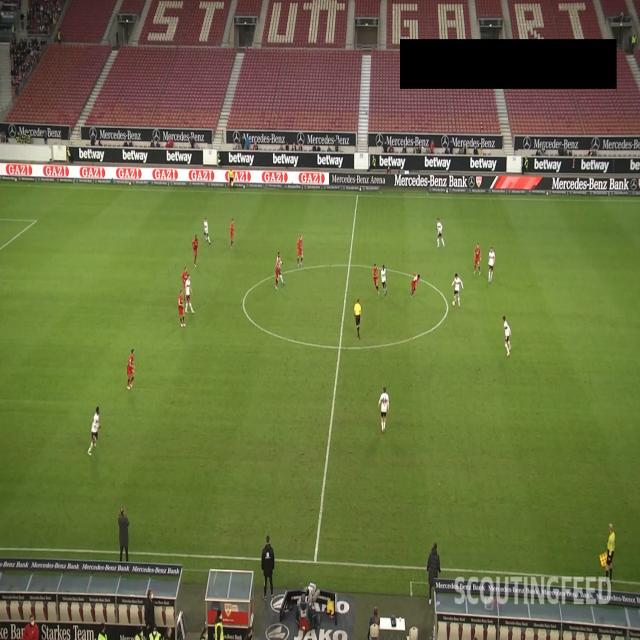ball: (452, 300, 456, 307)
